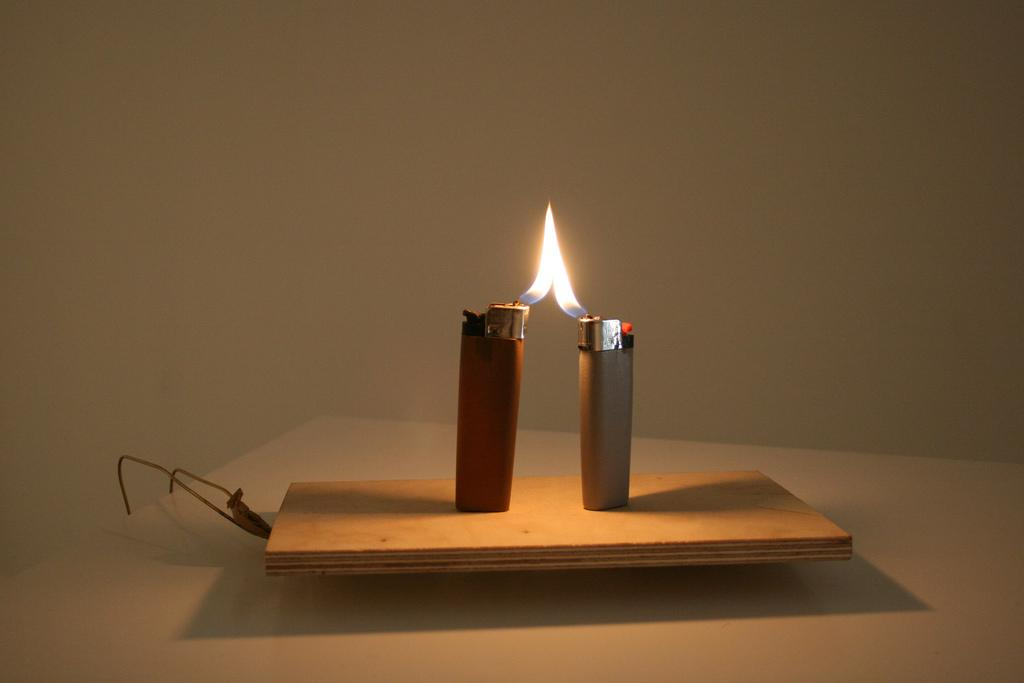fire: (538, 230, 563, 298)
